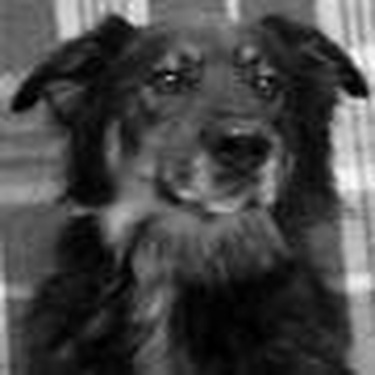dog: (1, 7, 368, 371)
